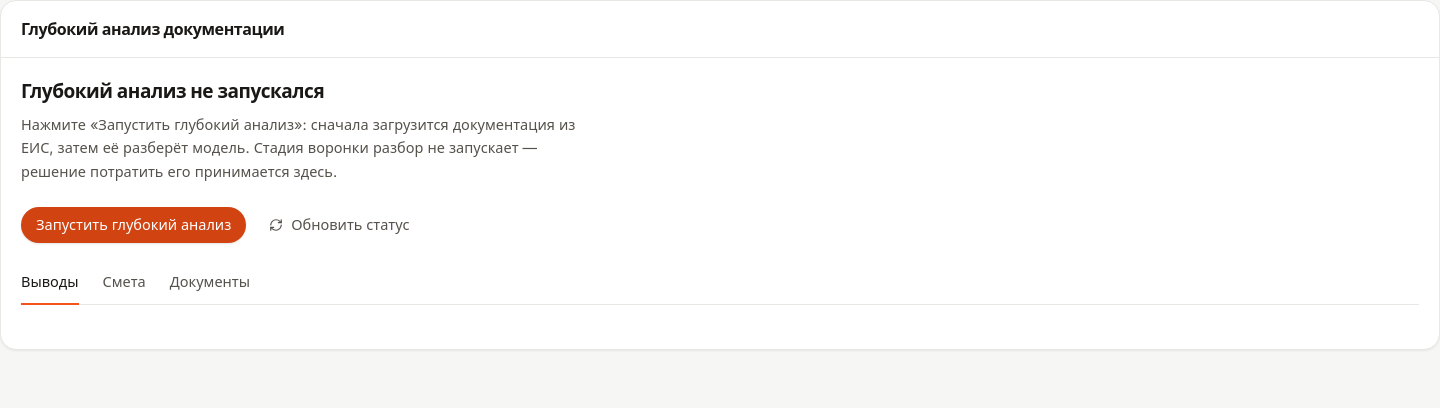
Test case: DeepAnalysisPanel › отказ по суточному лимиту показывает причину, а не общий сбой
Click the button "Запустить глубокий анализ".
click(134, 225)  # box [21,207,246,243]
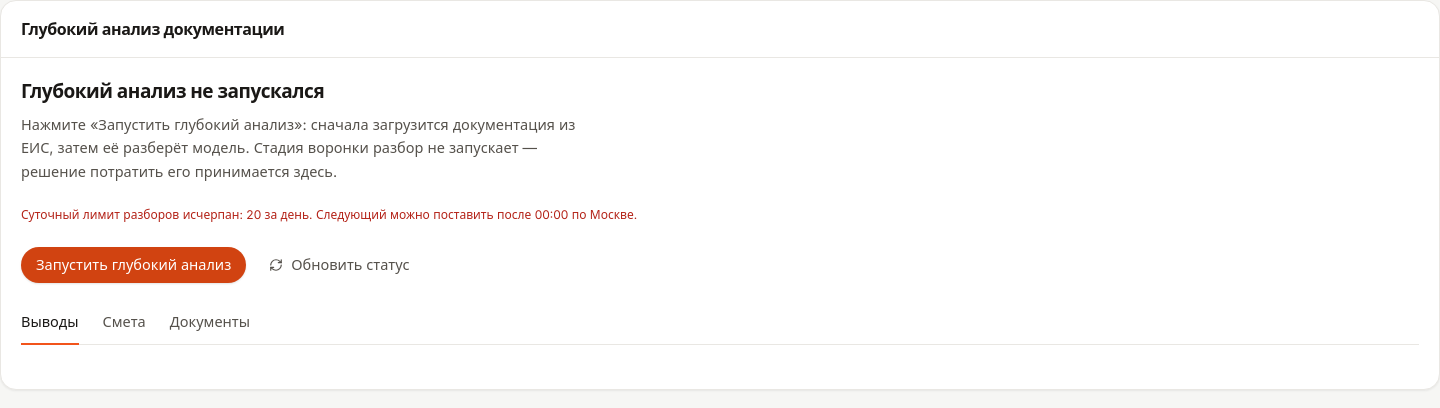
Expected: the button "Запустить глубокий анализ" is shown, [21,247,246,283]
Result: the text "Суточный лимит разборов исчерпан: 20 за день" is shown at [21,207,637,222]
